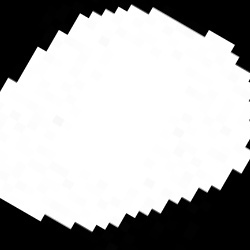spot: (0, 8, 248, 229)
